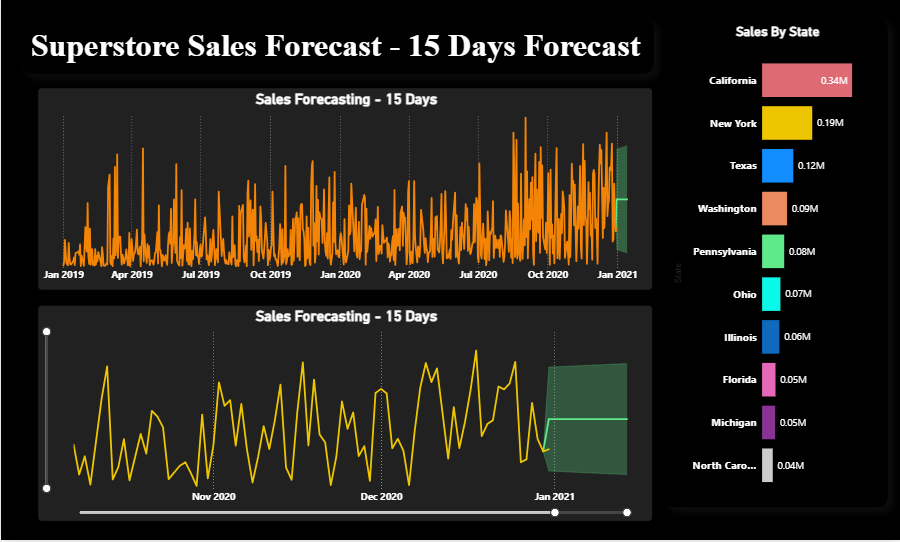

This screenshot's page, from the dashboard's own definition file:
{"tool":"powerbi","page":{"name":"Forecasting","canvas":[1500,900],"ordinal":1},"visuals":[{"type":"lineChart","title":"Sales Forecasting - 15 Days","fields":{"Y":["Sum(SuperStore_Sales_Dataset.Sales)"],"Category":["SuperStore_Sales_Dataset.Order Date.Variation.Date Hierarchy.Year","SuperStore_Sales_Dataset.Order Date.Variation.Date Hierarchy.Quarter","SuperStore_Sales_Dataset.Order Date.Variation.Date Hierarchy.Month","SuperStore_Sales_Dataset.Order Date.Variation.Date Hierarchy.Day"]},"box":[60,507.5,1027.5,362.5],"z":0},{"type":"lineChart","title":" Sales Forecasting - 15 Days","fields":{"Y":["Sum(SuperStore_Sales_Dataset.Sales)"],"Category":["SuperStore_Sales_Dataset.Order Date.Variation.Date Hierarchy.Year","SuperStore_Sales_Dataset.Order Date.Variation.Date Hierarchy.Quarter","SuperStore_Sales_Dataset.Order Date.Variation.Date Hierarchy.Month","SuperStore_Sales_Dataset.Order Date.Variation.Date Hierarchy.Day"]},"box":[60,145,1027.5,340],"z":1000},{"type":"textbox","box":[37.5,32.5,1050,90],"z":2000},{"type":"clusteredBarChart","title":"Sales By State","fields":{"Category":["SuperStore_Sales_Dataset.State"],"Y":["Sum(SuperStore_Sales_Dataset.Sales)"]},"box":[1107.5,32.5,370,812.5],"z":3000}]}

Visuals, with their boxes in screenshot pixels (x1, y1, x2, y2), scaled from the page's 1500x900 canvas onto the 900x542 screenshot:
"Sales Forecasting - 15 Days" lineChart: 36, 306, 652, 524
" Sales Forecasting - 15 Days" lineChart: 36, 87, 652, 292
textbox: 22, 20, 652, 74
"Sales By State" clusteredBarChart: 664, 20, 886, 509
